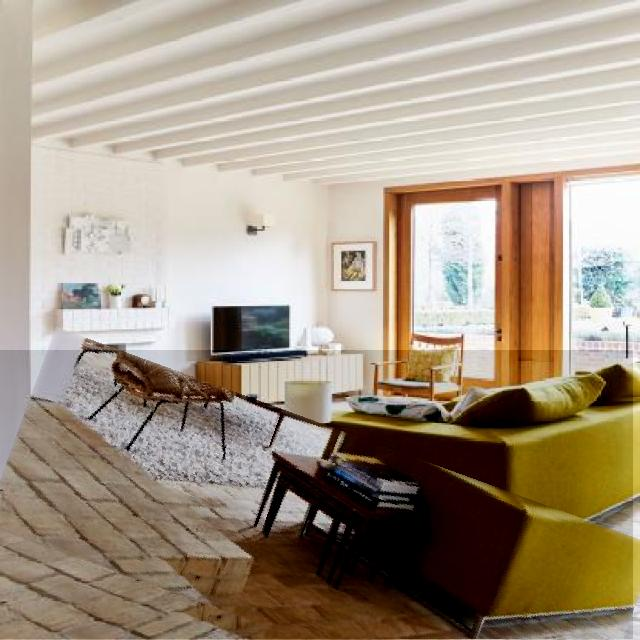floor: (0, 351, 476, 640), (476, 609, 633, 640)
